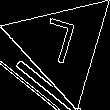L_S: (40, 17, 84, 74)
